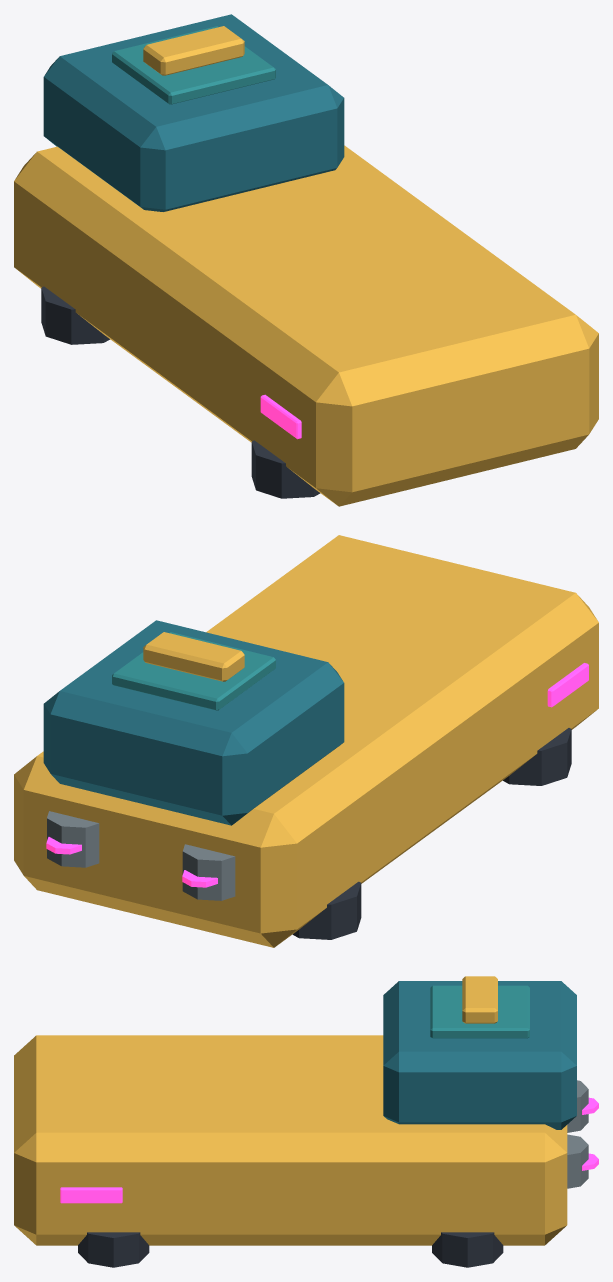
File: vehicles_039_seed11.glb
The picture shows the model from 3 angles, top to bottom: view 1: azimuth 30°, elevation 25°; view 2: azimuth 150°, elevation 25°; view 3: azimuth 270°, elevation 25°; orthographic projection. The views are drawn at different scales.
Parts seen in each view (by area): view 1: vehicles_039_seed11; view 2: vehicles_039_seed11; view 3: vehicles_039_seed11.
Part boxes in pixels (box(x1,y1,x2,y2)): vehicles_039_seed11: box(14, 14, 598, 506); vehicles_039_seed11: box(14, 535, 598, 947); vehicles_039_seed11: box(14, 976, 598, 1267).
Size of the model in its own units: 2.03 by 1.6 by 3.93.
